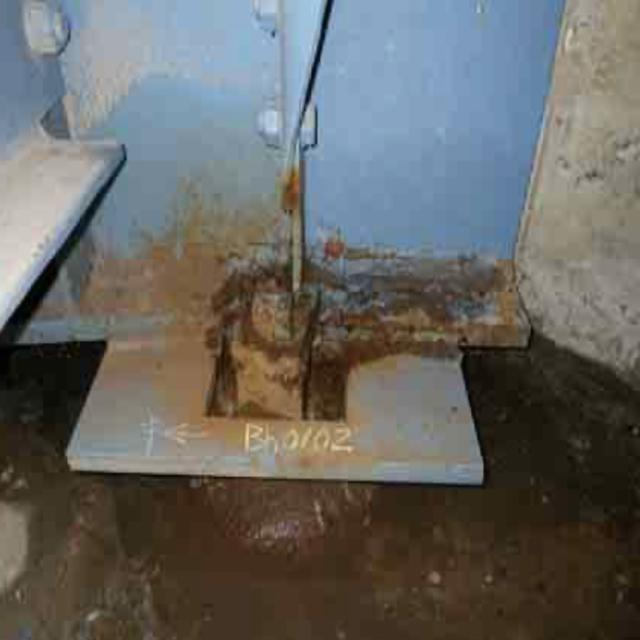corrosion: (178, 211, 522, 436)
